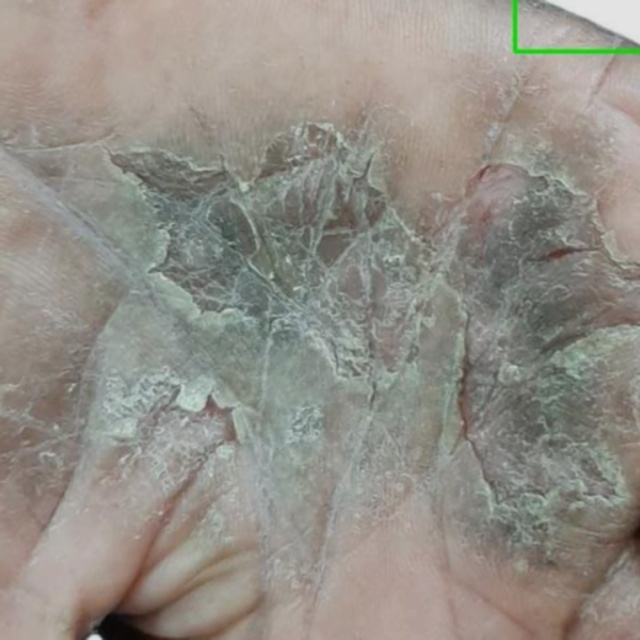Contact Dermatitis: (514, 0, 639, 52)
